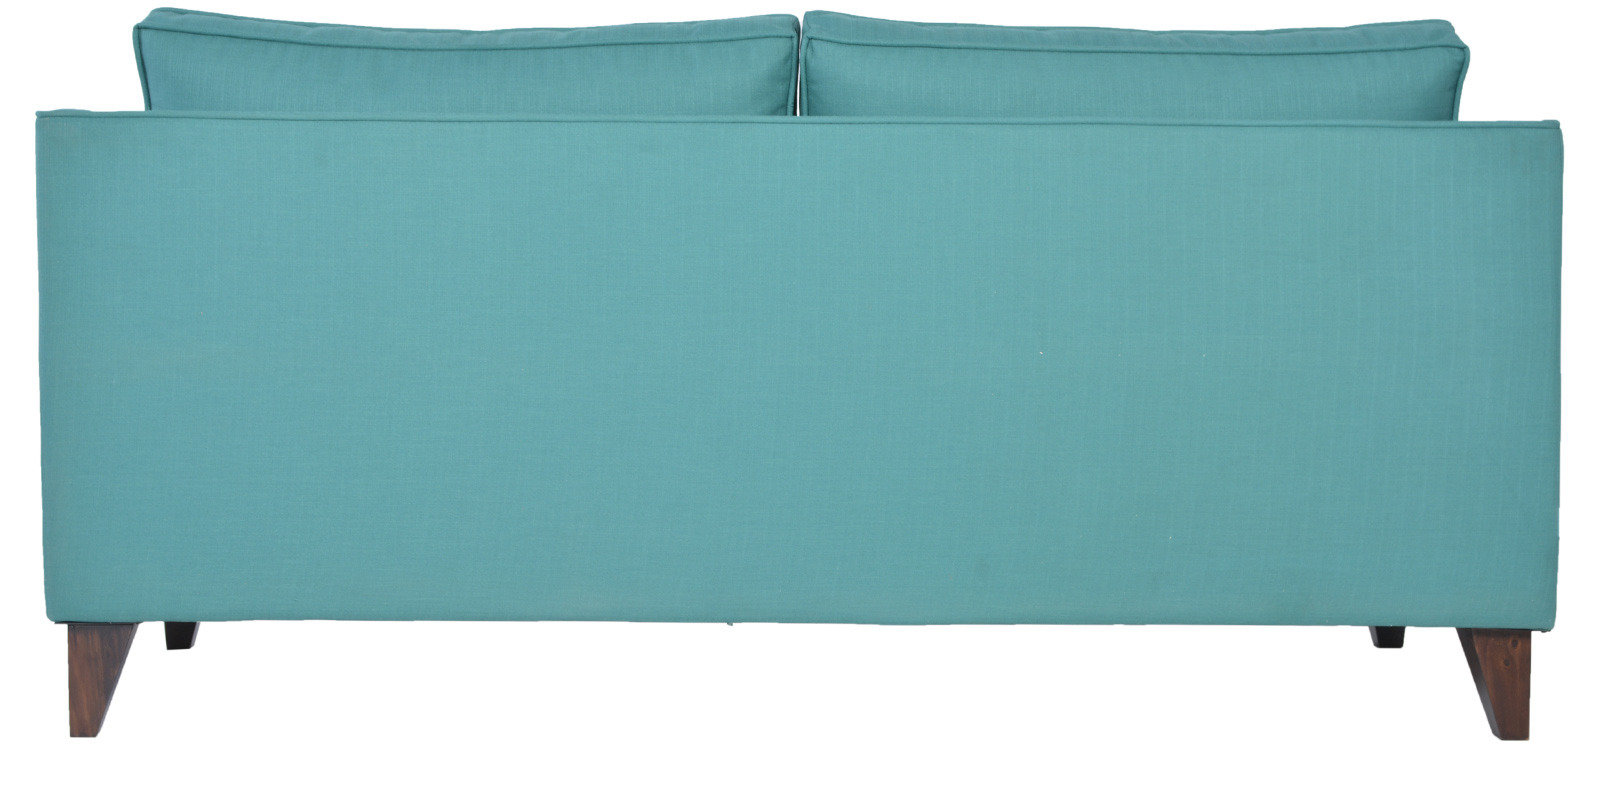Ithaca Impulse Three Seater Sofa with Throw Cushions in Jade Colour by Urban Liv: (29, 5, 1579, 768)
